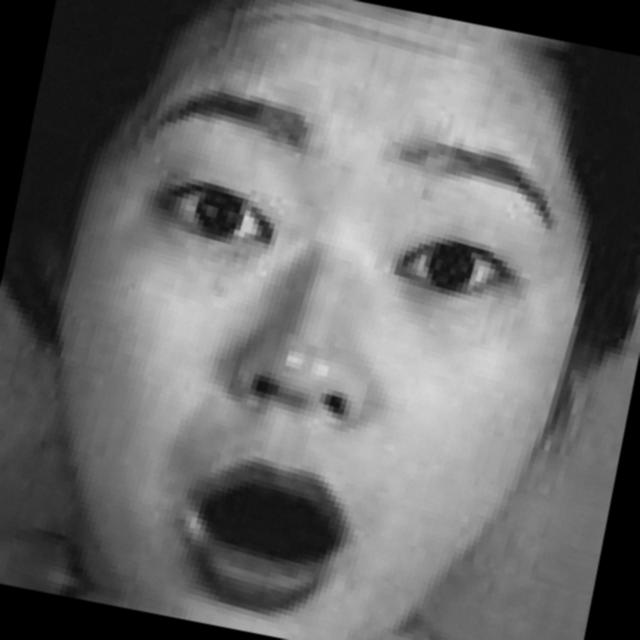surprise: (8, 0, 613, 640)
